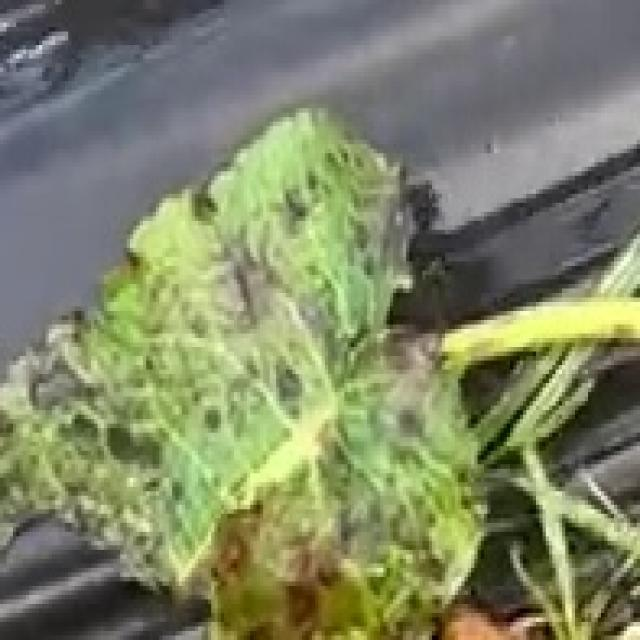organic waste: (0, 125, 545, 616)
